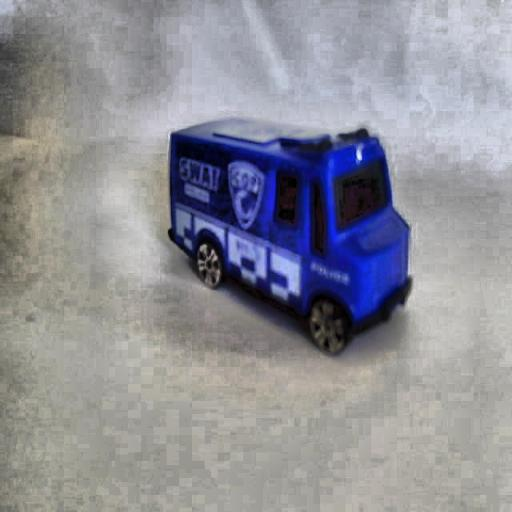police car: (164, 117, 418, 358)
